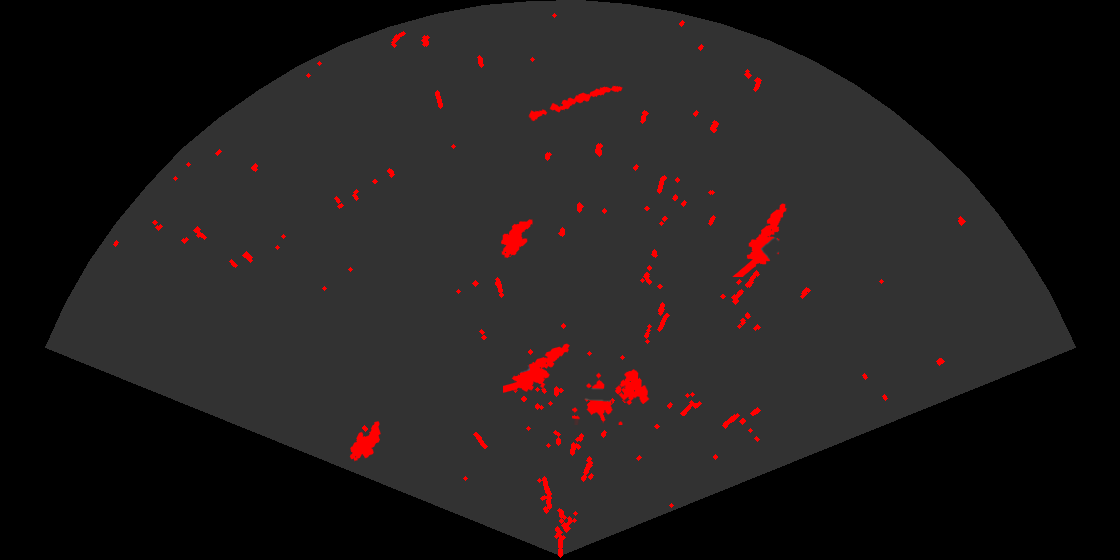AUV: (499, 218, 534, 260), (348, 420, 382, 463)
cage: (572, 368, 651, 425)
chain: (526, 84, 624, 123)
frogman: (731, 202, 788, 277), (503, 342, 571, 394)
